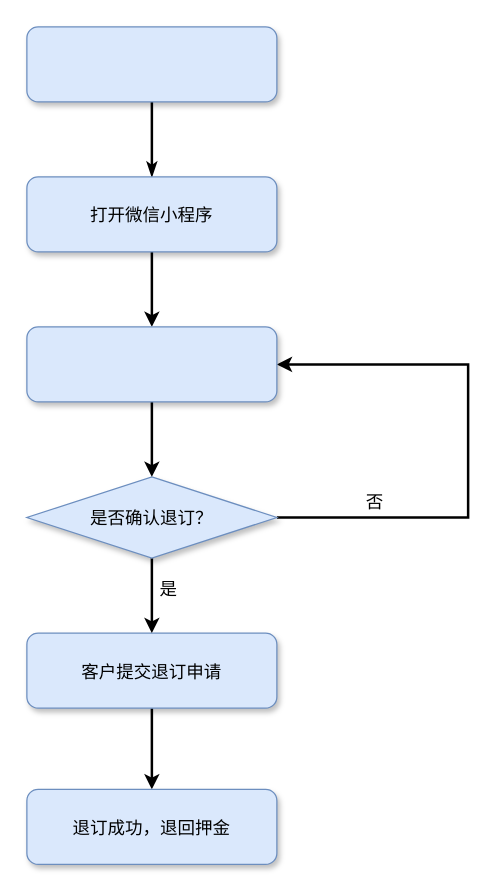
This 501x895 diagram has some shape labels left out. Here are the shapes that lost their labels. From the top down, the centre of each, then its label:
At (x=152, y=66): "客户退订".
At (x=152, y=366): "查看订单".
